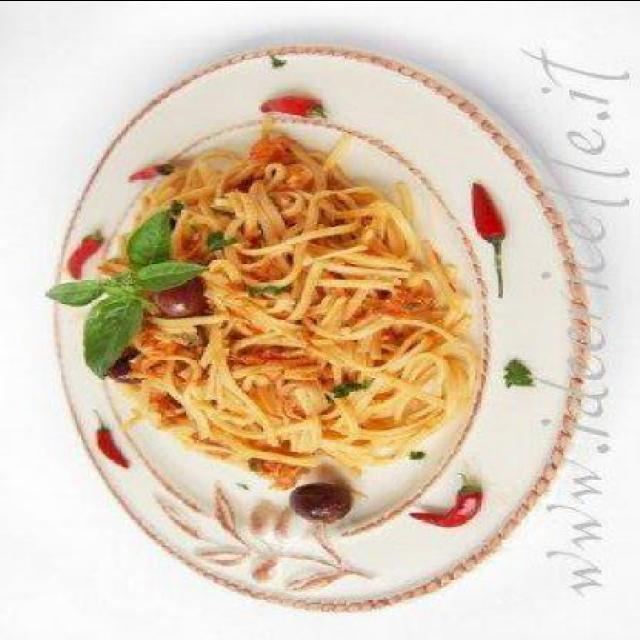Oil pasta: (59, 110, 512, 547)
